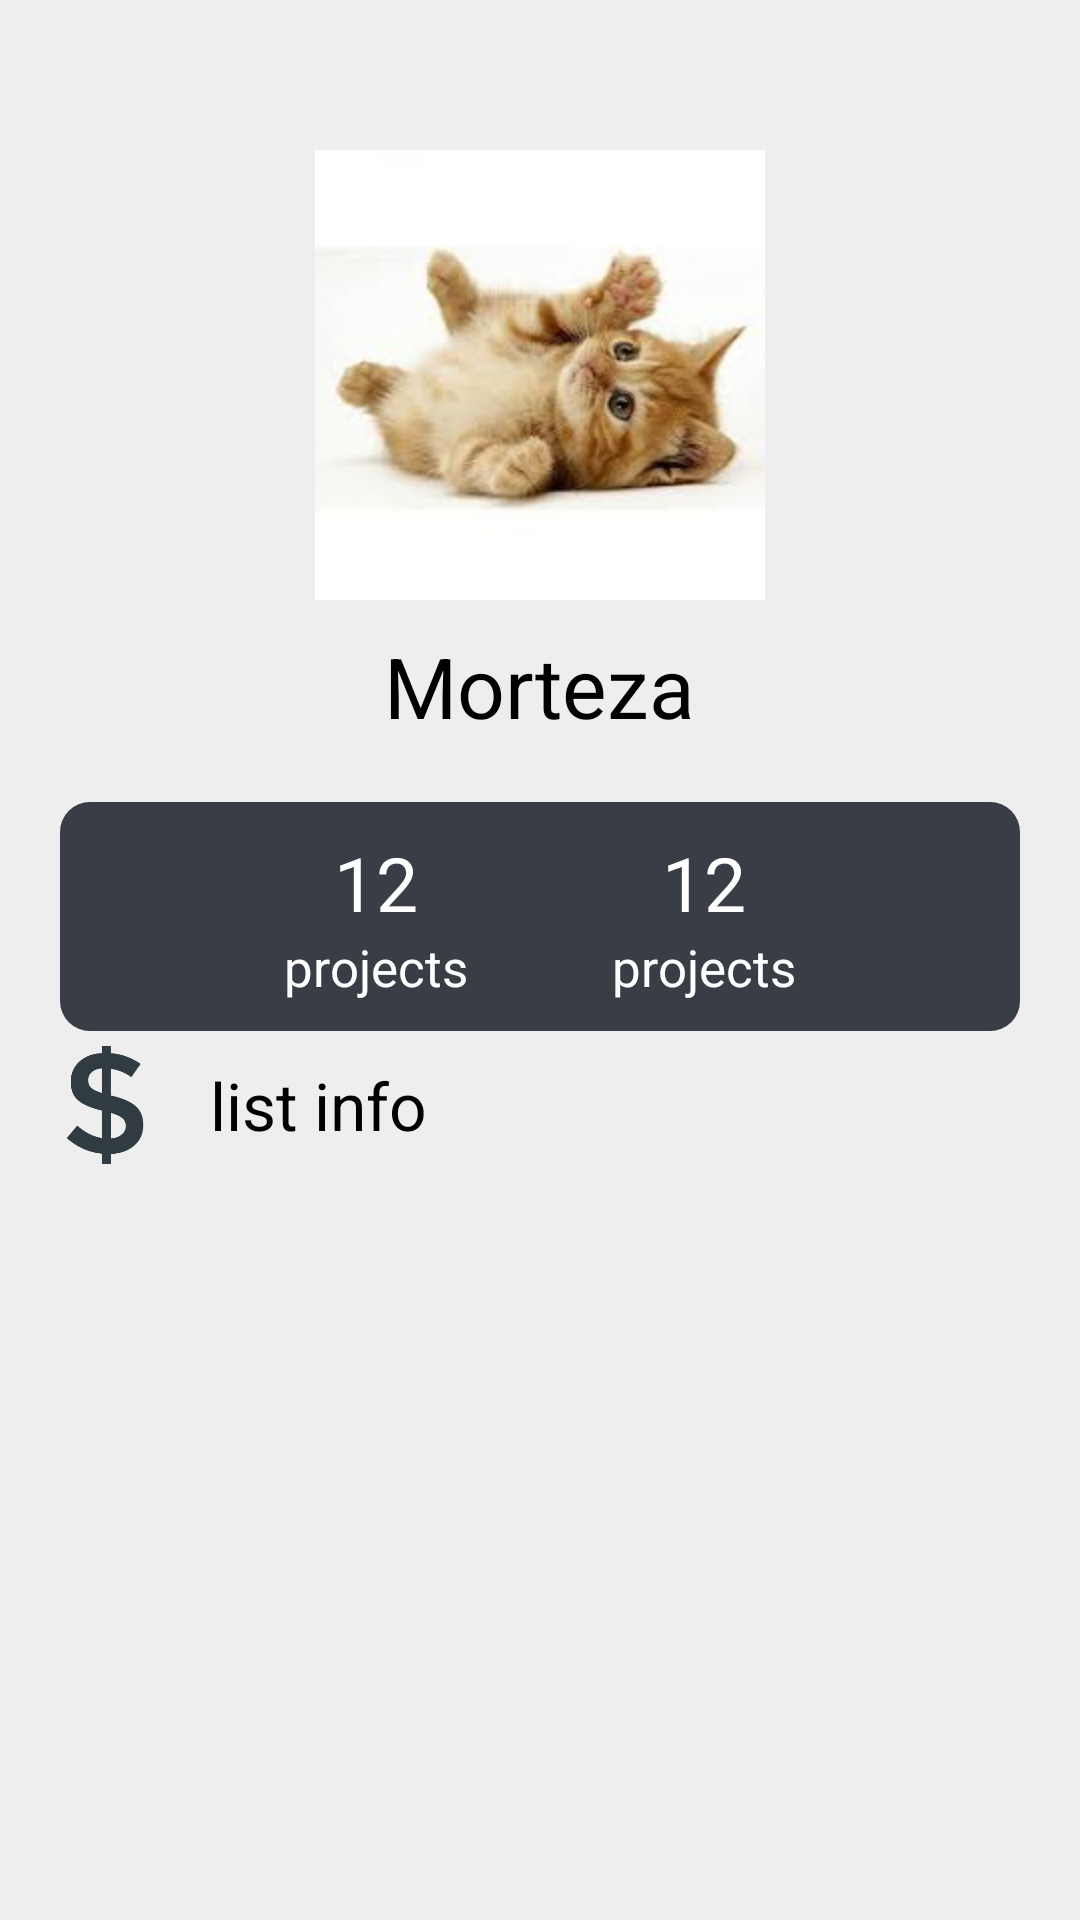

Locate icon controls on the screen. Image size 1080px×1920px, boxes as box(x1, y1, x2, y2).
cash: box(67, 1046, 144, 1164)
